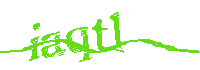a: (41, 31, 65, 57)
i: (30, 22, 40, 63)
l: (110, 8, 126, 54)
q: (67, 26, 93, 63)
t: (92, 19, 112, 54)
